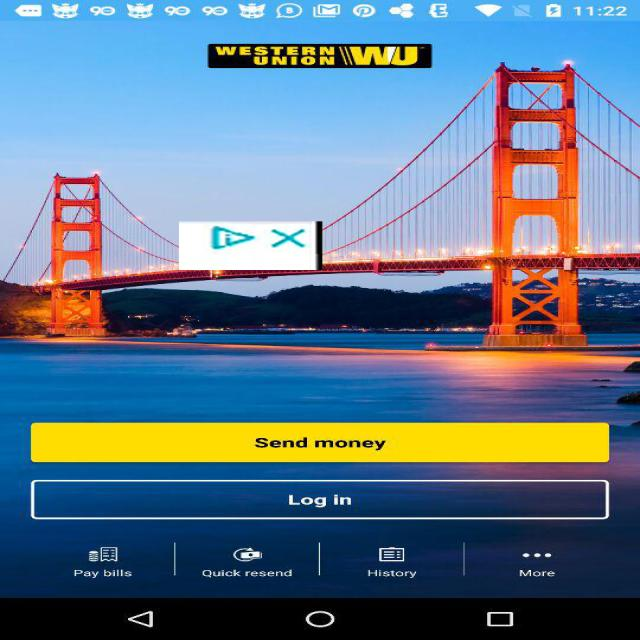sneaking: (179, 221, 322, 270)
